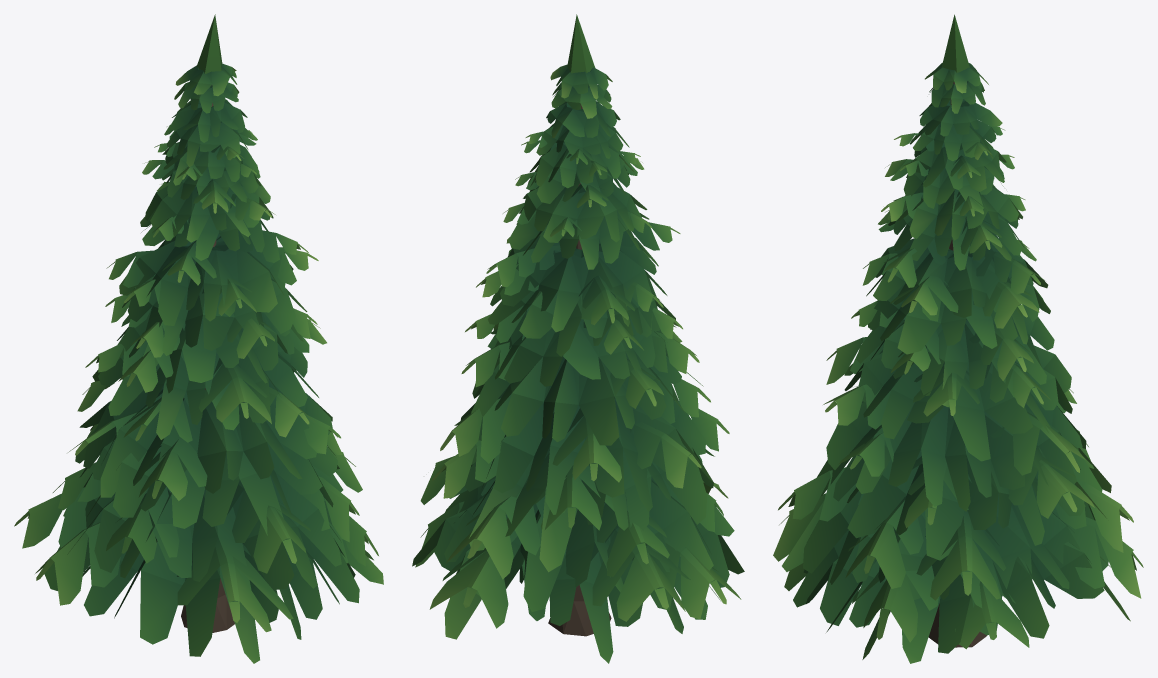
The model's file is spruce_L_normal_std_s34.glb.
3 renders of one model, left to right at view 1: azimuth 30°, elevation 25°; view 2: azimuth 150°, elevation 25°; view 3: azimuth 270°, elevation 25°, orthographic. The views are drawn at different scales.
Visible parts, largest first — view 1: Tree; view 2: Tree; view 3: Tree.
Boxes of the visible parts, left/top/right/bottom form: Tree: left=14, top=14, right=383, bottom=663; Tree: left=412, top=14, right=744, bottom=663; Tree: left=773, top=14, right=1143, bottom=663.
Size of what is drawn, in the model's own units: 4.29 by 7.99 by 4.31.
